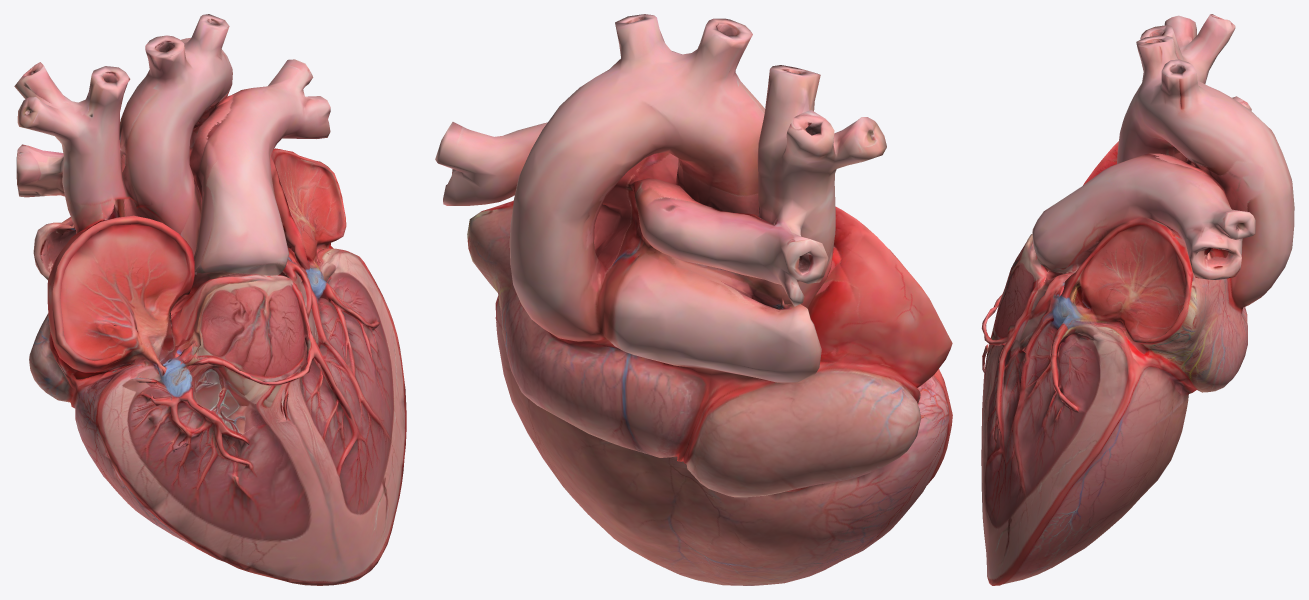
The model's file is heart.glb.
The picture shows the model from 3 angles, left to right: view 1: azimuth 30°, elevation 25°; view 2: azimuth 150°, elevation 25°; view 3: azimuth 270°, elevation 25°; orthographic projection. The views are drawn at different scales.
Bounding box in the file's own units: 1.43 × 2 × 1.15.
Materials: 1 (1 with a texture image).
